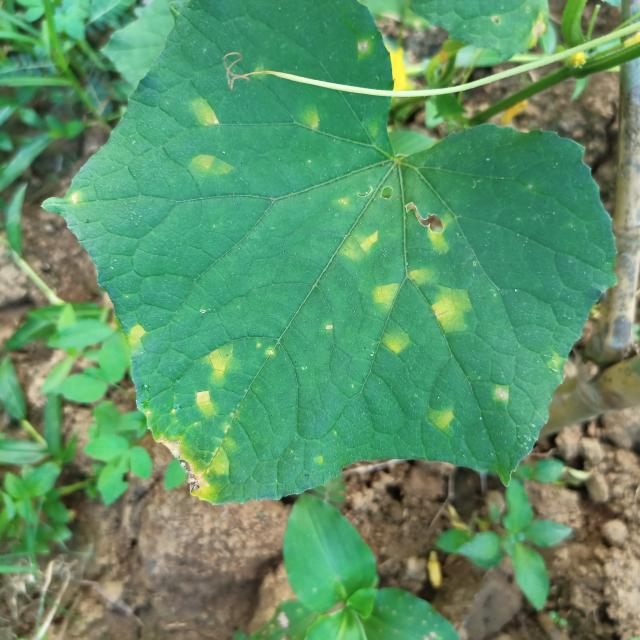disease_cucumber: (318, 185, 471, 367), (125, 322, 245, 510), (182, 93, 235, 189), (422, 396, 468, 442), (292, 99, 327, 143)
